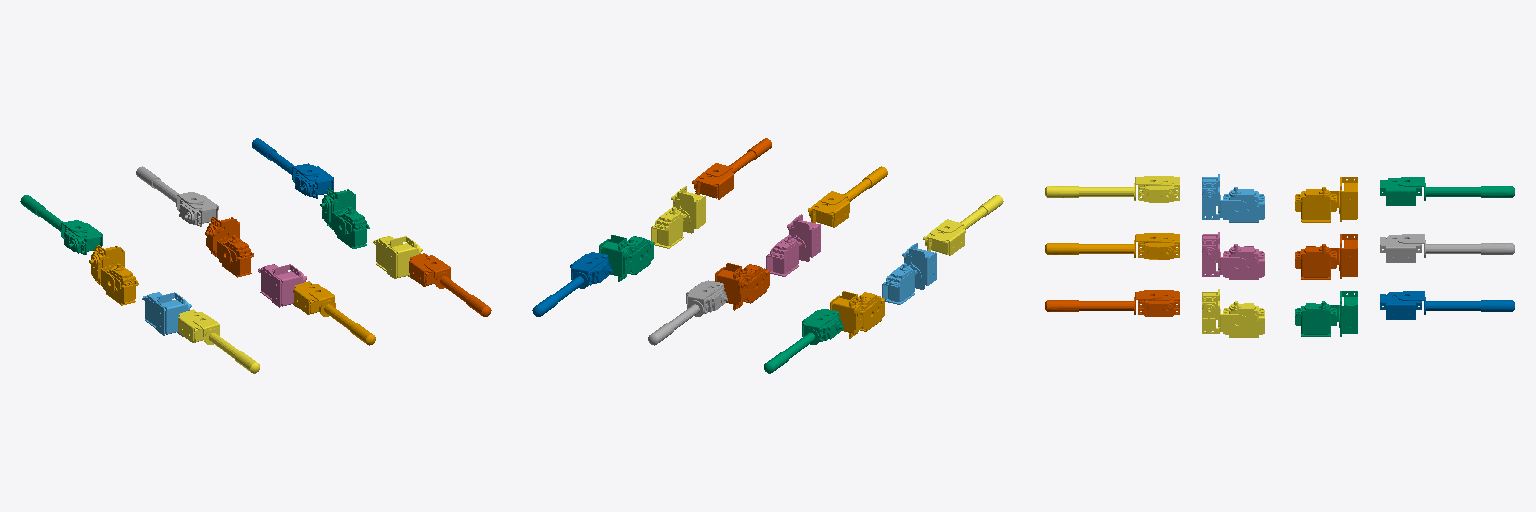
--- Render facts (derived) ---
The picture shows the robot from 3 angles, left to right: view 1: azimuth 30°, elevation 25°; view 2: azimuth 150°, elevation 25°; view 3: azimuth 270°, elevation 25°; orthographic projection.
Robot: hexapod — 20 links, 19 joints (18 revolute, 1 fixed); root link base_link; default pose: every joint at zero.
Visible links, largest first — view 1: left_rear_coxa, left_front_coxa, left_central_coxa, right_front_tibia, right_rear_tibia, right_central_tibia, left_front_tibia, left_central_tibia, left_rear_tibia, right_rear_coxa, right_front_coxa, right_central_coxa; view 2: right_front_coxa, right_rear_coxa, right_central_coxa, left_central_coxa, left_rear_coxa, left_front_coxa, left_central_tibia, left_front_tibia, left_rear_tibia, right_central_tibia, right_front_tibia, right_rear_tibia; view 3: right_front_coxa, right_rear_coxa, right_central_coxa, right_front_tibia, right_central_tibia, right_rear_tibia, left_rear_tibia, left_central_tibia, left_front_tibia, left_rear_coxa, left_central_coxa, left_front_coxa.
Link boxes in pixels (left/top/right/bottom): left_rear_coxa: left=89, top=245, right=138, bottom=305; left_front_coxa: left=320, top=188, right=369, bottom=248; left_central_coxa: left=205, top=217, right=253, bottom=277; right_front_tibia: left=409, top=253, right=491, bottom=316; right_rear_tibia: left=178, top=309, right=259, bottom=373; right_central_tibia: left=293, top=281, right=375, bottom=345; left_front_tibia: left=252, top=138, right=333, bottom=198; left_central_tibia: left=136, top=166, right=218, bottom=226; left_rear_tibia: left=20, top=195, right=102, bottom=254; right_rear_coxa: left=142, top=292, right=191, bottom=336; right_front_coxa: left=373, top=236, right=422, bottom=279; right_central_coxa: left=258, top=264, right=306, bottom=307; right_front_coxa: left=651, top=186, right=705, bottom=248; right_rear_coxa: left=882, top=243, right=936, bottom=304; right_central_coxa: left=766, top=214, right=820, bottom=276; left_central_coxa: left=715, top=263, right=769, bottom=310; left_rear_coxa: left=830, top=291, right=884, bottom=338; left_front_coxa: left=599, top=235, right=653, bottom=281; left_central_tibia: left=648, top=280, right=727, bottom=345; left_front_tibia: left=532, top=252, right=612, bottom=316; left_rear_tibia: left=764, top=309, right=843, bottom=373; right_central_tibia: left=808, top=166, right=887, bottom=227; right_front_tibia: left=692, top=138, right=771, bottom=199; right_rear_tibia: left=923, top=195, right=1003, bottom=255; right_front_coxa: left=1202, top=289, right=1264, bottom=337; right_rear_coxa: left=1202, top=174, right=1264, bottom=222; right_central_coxa: left=1202, top=232, right=1264, bottom=279; right_front_tibia: left=1045, top=290, right=1179, bottom=316; right_central_tibia: left=1045, top=233, right=1179, bottom=259; right_rear_tibia: left=1045, top=176, right=1179, bottom=202; left_rear_tibia: left=1380, top=177, right=1514, bottom=205; left_central_tibia: left=1380, top=234, right=1514, bottom=262; left_front_tibia: left=1380, top=291, right=1514, bottom=319; left_rear_coxa: left=1295, top=177, right=1357, bottom=222; left_central_coxa: left=1295, top=234, right=1357, bottom=279; left_front_coxa: left=1295, top=291, right=1357, bottom=336.
Bounding box of the posed robot: 0.4106 × 0.6306 × 0.0595 m (x, y, z).
Meshes: 4 distinct files referenced, 12 mesh visuals loaded (2 binary STL); not drawn: 7 (reference not matched to a file when rendering).

URDF robot description (hexapod):
<?xml version="1.0" encoding="utf-8"?>
<!-- =================================================================================== -->
<!-- |    This document was autogenerated by xacro from hexapod.urdf.xacro             | -->
<!-- |    EDITING THIS FILE BY HAND IS NOT RECOMMENDED                                 | -->
<!-- =================================================================================== -->
<robot name="hexapod">
  <link name="base_link"/>
  <link name="body">
    <visual>
      <geometry>
        <mesh filename="package://the_walking_thread_gazebo/src/urdf/meshes/the_walking_thread/frame.stl" scale="1 1 1"/>
      </geometry>
      <origin xyz="0 0 0"/>
    </visual>
    <collision>
      <geometry>
        <box size="0.3618                      0.117                      0.0525"/>
      </geometry>
    </collision>
    <inertial>
      <mass value="0.209677"/>
      <inertia ixx="0.00022432" ixy="0.0" ixz="0.0" iyy="0.0041164" iyz="0.0" izz="0.00422412"/>
    </inertial>
  </link>
  <joint name="base_link_to_body_joint" type="fixed">
    <origin rpy="0 0 0" xyz="0 0 0"/>
    <parent link="base_link"/>
    <child link="body"/>
  </joint>
  <link name="left_front_coxa">
    <visual>
      <geometry>
        <mesh filename="package://the_walking_thread_gazebo/src/urdf/meshes/the_walking_thread/coxa.stl" scale="1 1 1"/>
      </geometry>
      <origin rpy="1.57079632679 0 0" xyz="0 0 -0.01825"/>
    </visual>
    <collision>
      <geometry>
        <sphere radius="0.019"/>
      </geometry>
      <origin rpy="0 0 0" xyz="0 0 -0.0175"/>
    </collision>
    <inertial>
      <mass value="0.12131"/>
      <inertia ixx="9.165e-05" ixy="5.98e-06" ixz="-1.8e-06" iyy="3.309e-05" iyz="-1.473e-05" izz="8.256e-05"/>
    </inertial>
  </link>
  <link name="left_front_femur">
    <visual>
      <geometry>
        <mesh filename="package://the_walking_thread_gazebo/src/urdf/meshes/the_walking_thread/femur.stl" scale="1 1 1"/>
      </geometry>
      <origin rpy="1.57079632679 0 0" xyz="0 0 -0.0285"/>
    </visual>
    <collision>
      <geometry>
        <sphere radius="0.03"/>
      </geometry>
      <origin rpy="0 0 0" xyz="0 0 -0.027"/>
    </collision>
    <inertial>
      <mass value="0.02748837"/>
      <inertia ixx="1.094e-05" ixy="0.0" ixz="0.0" iyy="1.457e-05" iyz="0.0" izz="2.278e-05"/>
    </inertial>
  </link>
  <link name="left_front_tibia">
    <visual>
      <geometry>
        <mesh filename="package://the_walking_thread_gazebo/src/urdf/meshes/the_walking_thread/tibia.stl" scale="1 1 1"/>
      </geometry>
      <origin rpy="1.57079632679 0 0" xyz="0 0 -0.0815"/>
    </visual>
    <collision>
      <geometry>
        <sphere radius="0.0065"/>
      </geometry>
      <origin rpy="0 0 0" xyz="0 0 -0.1565"/>
    </collision>
    <inertial>
      <mass value="0.08475"/>
      <inertia ixx="0.0001634" ixy="-3.17e-06" ixz="-2.9e-07" iyy="1.251e-05" iyz="3.18e-06" izz="0.00016808"/>
    </inertial>
  </link>
  <joint name="left_front_body_to_coxa_joint" type="revolute">
    <parent link="body"/>
    <origin rpy="-1.57079632679 0 3.14159265359" xyz="0.1809                        0.0585                        0"/>
    <child link="left_front_coxa"/>
    <axis xyz="0 1 0"/>
    <limit effort="0.5295591" lower="-0.785398163397" upper="0.785398163397" velocity="0.003141593"/>
  </joint>
  <!-- TRANSMITION DEFINITION -->
  <transmission name="left_front_body_to_coxa_transmition">
    <type>transmission_interface/SimpleTransmission</type>
    <joint name="left_front_body_to_coxa_joint">
      <hardwareInterface>hardware_interface/EffortJointInterface</hardwareInterface>
    </joint>
    <actuator name="left_front_body_to_coxa_actuator">
      <hardwareInterface>hardware_interface/EffortJointInterface</hardwareInterface>
      <mechanicalReduction>1</mechanicalReduction>
    </actuator>
  </transmission>
  <joint name="left_front_coxa_to_femur_joint" type="revolute">
    <parent link="left_front_coxa"/>
    <origin rpy="0 0 0" xyz="0 -0.019 -0.0365"/>
    <child link="left_front_femur"/>
    <axis xyz="1 0 0"/>
    <limit effort="0.5295591" lower="-0.785398163397" upper="0.785398163397" velocity="0.003141593"/>
  </joint>
  <!-- TRANSMITION DEFINITION -->
  <transmission name="left_front_coxa_to_femur_transmition">
    <type>transmission_interface/SimpleTransmission</type>
    <joint name="left_front_coxa_to_femur_joint">
      <hardwareInterface>hardware_interface/EffortJointInterface</hardwareInterface>
    </joint>
    <actuator name="left_front_coxa_to_femur_actuator">
      <hardwareInterface>hardware_interface/EffortJointInterface</hardwareInterface>
      <mechanicalReduction>1</mechanicalReduction>
    </actuator>
  </transmission>
  <joint name="left_front_femur_to_tibia_joint" type="revolute">
    <parent link="left_front_femur"/>
    <origin rpy="0 0 0" xyz="0 0 -0.057"/>
    <child link="left_front_tibia"/>
    <axis xyz="1 0 0"/>
    <limit effort="0.5295591" lower="0.0" upper="2.35619449019" velocity="0.003141593"/>
  </joint>
  <!-- TRANSMITION DEFINITION -->
  <transmission name="left_front_femur_to_tibia_transmition">
    <type>transmission_interface/SimpleTransmission</type>
    <joint name="left_front_femur_to_tibia_joint">
      <hardwareInterface>hardware_interface/EffortJointInterface</hardwareInterface>
    </joint>
    <actuator name="left_front_femur_to_tibia_actuator">
      <hardwareInterface>hardware_interface/EffortJointInterface</hardwareInterface>
      <mechanicalReduction>1</mechanicalReduction>
    </actuator>
  </transmission>
  <gazebo reference="left_front_coxa">
    <mu1>0.9</mu1>
    <mu2>0.6</mu2>
  </gazebo>
  <link name="left_central_coxa">
    <visual>
      <geometry>
        <mesh filename="package://the_walking_thread_gazebo/src/urdf/meshes/the_walking_thread/coxa.stl" scale="1 1 1"/>
      </geometry>
      <origin rpy="1.57079632679 0 0" xyz="0 0 -0.01825"/>
    </visual>
    <collision>
      <geometry>
        <sphere radius="0.019"/>
      </geometry>
      <origin rpy="0 0 0" xyz="0 0 -0.0175"/>
    </collision>
    <inertial>
      <mass value="0.12131"/>
      <inertia ixx="9.165e-05" ixy="5.98e-06" ixz="-1.8e-06" iyy="3.309e-05" iyz="-1.473e-05" izz="8.256e-05"/>
    </inertial>
  </link>
  <link name="left_central_femur">
    <visual>
      <geometry>
        <mesh filename="package://the_walking_thread_gazebo/src/urdf/meshes/the_walking_thread/femur.stl" scale="1 1 1"/>
      </geometry>
      <origin rpy="1.57079632679 0 0" xyz="0 0 -0.0285"/>
    </visual>
    <collision>
      <geometry>
        <sphere radius="0.03"/>
      </geometry>
      <origin rpy="0 0 0" xyz="0 0 -0.027"/>
    </collision>
    <inertial>
      <mass value="0.02748837"/>
      <inertia ixx="1.094e-05" ixy="0.0" ixz="0.0" iyy="1.457e-05" iyz="0.0" izz="2.278e-05"/>
    </inertial>
  </link>
  <link name="left_central_tibia">
    <visual>
      <geometry>
        <mesh filename="package://the_walking_thread_gazebo/src/urdf/meshes/the_walking_thread/tibia.stl" scale="1 1 1"/>
      </geometry>
      <origin rpy="1.57079632679 0 0" xyz="0 0 -0.0815"/>
    </visual>
    <collision>
      <geometry>
        <sphere radius="0.0065"/>
      </geometry>
      <origin rpy="0 0 0" xyz="0 0 -0.1565"/>
    </collision>
    <inertial>
      <mass value="0.08475"/>
      <inertia ixx="0.0001634" ixy="-3.17e-06" ixz="-2.9e-07" iyy="1.251e-05" iyz="3.18e-06" izz="0.00016808"/>
    </inertial>
  </link>
  <joint name="left_central_body_to_coxa_joint" type="revolute">
    <parent link="body"/>
    <origin rpy="-1.57079632679 0 3.14159265359" xyz="0                        0.0585                        0"/>
    <child link="left_central_coxa"/>
    <axis xyz="0 1 0"/>
    <limit effort="0.5295591" lower="-0.785398163397" upper="0.785398163397" velocity="0.003141593"/>
  </joint>
  <!-- TRANSMITION DEFINITION -->
  <transmission name="left_central_body_to_coxa_transmition">
    <type>transmission_interface/SimpleTransmission</type>
    <joint name="left_central_body_to_coxa_joint">
      <hardwareInterface>hardware_interface/EffortJointInterface</hardwareInterface>
    </joint>
    <actuator name="left_central_body_to_coxa_actuator">
      <hardwareInterface>hardware_interface/EffortJointInterface</hardwareInterface>
      <mechanicalReduction>1</mechanicalReduction>
    </actuator>
  </transmission>
  <joint name="left_central_coxa_to_femur_joint" type="revolute">
    <parent link="left_central_coxa"/>
    <origin rpy="0 0 0" xyz="0 -0.019 -0.0365"/>
    <child link="left_central_femur"/>
    <axis xyz="1 0 0"/>
    <limit effort="0.5295591" lower="-0.785398163397" upper="0.785398163397" velocity="0.003141593"/>
  </joint>
  <!-- TRANSMITION DEFINITION -->
  <transmission name="left_central_coxa_to_femur_transmition">
    <type>transmission_interface/SimpleTransmission</type>
    <joint name="left_central_coxa_to_femur_joint">
      <hardwareInterface>hardware_interface/EffortJointInterface</hardwareInterface>
    </joint>
    <actuator name="left_central_coxa_to_femur_actuator">
      <hardwareInterface>hardware_interface/EffortJointInterface</hardwareInterface>
      <mechanicalReduction>1</mechanicalReduction>
    </actuator>
  </transmission>
  <joint name="left_central_femur_to_tibia_joint" type="revolute">
    <parent link="left_central_femur"/>
    <origin rpy="0 0 0" xyz="0 0 -0.057"/>
    <child link="left_central_tibia"/>
    <axis xyz="1 0 0"/>
    <limit effort="0.5295591" lower="0.0" upper="2.35619449019" velocity="0.003141593"/>
  </joint>
  <!-- TRANSMITION DEFINITION -->
  <transmission name="left_central_femur_to_tibia_transmition">
    <type>transmission_interface/SimpleTransmission</type>
    <joint name="left_central_femur_to_tibia_joint">
      <hardwareInterface>hardware_interface/EffortJointInterface</hardwareInterface>
    </joint>
    <actuator name="left_central_femur_to_tibia_actuator">
      <hardwareInterface>hardware_interface/EffortJointInterface</hardwareInterface>
      <mechanicalReduction>1</mechanicalReduction>
    </actuator>
  </transmission>
  <gazebo reference="left_central_coxa">
    <mu1>0.9</mu1>
    <mu2>0.6</mu2>
  </gazebo>
  <link name="left_rear_coxa">
    <visual>
      <geometry>
        <mesh filename="package://the_walking_thread_gazebo/src/urdf/meshes/the_walking_thread/coxa.stl" scale="1 1 1"/>
      </geometry>
      <origin rpy="1.57079632679 0 0" xyz="0 0 -0.01825"/>
    </visual>
    <collision>
      <geometry>
        <sphere radius="0.019"/>
      </geometry>
      <origin rpy="0 0 0" xyz="0 0 -0.0175"/>
    </collision>
    <inertial>
      <mass value="0.12131"/>
      <inertia ixx="9.165e-05" ixy="5.98e-06" ixz="-1.8e-06" iyy="3.309e-05" iyz="-1.473e-05" izz="8.256e-05"/>
    </inertial>
  </link>
  <link name="left_rear_femur">
    <visual>
      <geometry>
        <mesh filename="package://the_walking_thread_gazebo/src/urdf/meshes/the_walking_thread/femur.stl" scale="1 1 1"/>
      </geometry>
      <origin rpy="1.57079632679 0 0" xyz="0 0 -0.0285"/>
    </visual>
    <collision>
      <geometry>
        <sphere radius="0.03"/>
      </geometry>
      <origin rpy="0 0 0" xyz="0 0 -0.027"/>
    </collision>
    <inertial>
      <mass value="0.02748837"/>
      <inertia ixx="1.094e-05" ixy="0.0" ixz="0.0" iyy="1.457e-05" iyz="0.0" izz="2.278e-05"/>
    </inertial>
  </link>
  <link name="left_rear_tibia">
    <visual>
      <geometry>
        <mesh filename="package://the_walking_thread_gazebo/src/urdf/meshes/the_walking_thread/tibia.stl" scale="1 1 1"/>
      </geometry>
      <origin rpy="1.57079632679 0 0" xyz="0 0 -0.0815"/>
    </visual>
    <collision>
      <geometry>
        <sphere radius="0.0065"/>
      </geometry>
      <origin rpy="0 0 0" xyz="0 0 -0.1565"/>
    </collision>
    <inertial>
      <mass value="0.08475"/>
      <inertia ixx="0.0001634" ixy="-3.17e-06" ixz="-2.9e-07" iyy="1.251e-05" iyz="3.18e-06" izz="0.00016808"/>
    </inertial>
  </link>
  <joint name="left_rear_body_to_coxa_joint" type="revolute">
    <parent link="body"/>
    <origin rpy="-1.57079632679 0 3.14159265359" xyz="-0.1809                        0.0585                        0"/>
    <child link="left_rear_coxa"/>
    <axis xyz="0 1 0"/>
    <limit effort="0.5295591" lower="-0.785398163397" upper="0.785398163397" velocity="0.003141593"/>
  </joint>
  <!-- TRANSMITION DEFINITION -->
  <transmission name="left_rear_body_to_coxa_transmition">
    <type>transmission_interface/SimpleTransmission</type>
    <joint name="left_rear_body_to_coxa_joint">
      <hardwareInterface>hardware_interface/EffortJointInterface</hardwareInterface>
    </joint>
    <actuator name="left_rear_body_to_coxa_actuator">
      <hardwareInterface>hardware_interface/EffortJointInterface</hardwareInterface>
      <mechanicalReduction>1</mechanicalReduction>
    </actuator>
  </transmission>
  <joint name="left_rear_coxa_to_femur_joint" type="revolute">
    <parent link="left_rear_coxa"/>
    <origin rpy="0 0 0" xyz="0 -0.019 -0.0365"/>
    <child link="left_rear_femur"/>
    <axis xyz="1 0 0"/>
    <limit effort="0.5295591" lower="-0.785398163397" upper="0.785398163397" velocity="0.003141593"/>
  </joint>
  <!-- TRANSMITION DEFINITION -->
  <transmission name="left_rear_coxa_to_femur_transmition">
    <type>transmission_interface/SimpleTransmission</type>
    <joint name="left_rear_coxa_to_femur_joint">
      <hardwareInterface>hardware_interface/EffortJointInterface</hardwareInterface>
    </joint>
    <actuator name="left_rear_coxa_to_femur_actuator">
      <hardwareInterface>hardware_interface/EffortJointInterface</hardwareInterface>
      <mechanicalReduction>1</mechanicalReduction>
    </actuator>
  </transmission>
  <joint name="left_rear_femur_to_tibia_joint" type="revolute">
    <parent link="left_rear_femur"/>
    <origin rpy="0 0 0" xyz="0 0 -0.057"/>
    <child link="left_rear_tibia"/>
    <axis xyz="1 0 0"/>
    <limit effort="0.5295591" lower="0.0" upper="2.35619449019" velocity="0.003141593"/>
  </joint>
  <!-- TRANSMITION DEFINITION -->
  <transmission name="left_rear_femur_to_tibia_transmition">
    <type>transmission_interface/SimpleTransmission</type>
    <joint name="left_rear_femur_to_tibia_joint">
      <hardwareInterface>hardware_interface/EffortJointInterface</hardwareInterface>
    </joint>
    <actuator name="left_rear_femur_to_tibia_actuator">
      <hardwareInterface>hardware_interface/EffortJointInterface</hardwareInterface>
      <mechanicalReduction>1</mechanicalReduction>
    </actuator>
  </transmission>
  <gazebo reference="left_rear_coxa">
    <mu1>0.9</mu1>
    <mu2>0.6</mu2>
  </gazebo>
  <link name="right_front_coxa">
    <visual>
      <geometry>
        <mesh filename="package://the_walking_thread_gazebo/src/urdf/meshes/the_walking_thread/coxa.stl" scale="1 1 1"/>
      </geometry>
      <origin rpy="1.57079632679 0 0" xyz="0 0 -0.01825"/>
    </visual>
    <collision>
      <geometry>
        <sphere radius="0.019"/>
      </geometry>
      <origin rpy="0 0 0" xyz="0 0 -0.0175"/>
    </collision>
    <inertial>
      <mass value="0.12131"/>
      <inertia ixx="9.165e-05" ixy="5.98e-06" ixz="-1.8e-06" iyy="3.309e-05" iyz="-1.473e-05" izz="8.256e-05"/>
    </inertial>
  </link>
  <link name="right_front_femur">
    <visual>
      <geometry>
        <mesh filename="package://the_walking_thread_gazebo/src/urdf/meshes/the_walking_thread/femur.stl" scale="1 1 1"/>
      </geometry>
      <origin rpy="1.57079632679 0 0" xyz="0 0 -0.0285"/>
    </visual>
    <collision>
      <geometry>
        <sphere radius="0.03"/>
      </geometry>
      <origin rpy="0 0 0" xyz="0 0 -0.027"/>
    </collision>
    <inertial>
      <mass value="0.02748837"/>
      <inertia ixx="1.094e-05" ixy="0.0" ixz="0.0" iyy="1.457e-05" iyz="0.0" izz="2.278e-05"/>
    </inertial>
  </link>
  <link name="right_front_tibia">
    <visual>
      <geometry>
        <mesh filename="package://the_walking_thread_gazebo/src/urdf/meshes/the_walking_thread/tibia.stl" scale="1 1 1"/>
      </geometry>
      <origin rpy="1.57079632679 0 0" xyz="0 0 -0.0815"/>
    </visual>
    <collision>
      <geometry>
        <sphere radius="0.0065"/>
      </geometry>
      <origin rpy="0 0 0" xyz="0 0 -0.1565"/>
    </collision>
    <inertial>
      <mass value="0.08475"/>
      <inertia ixx="0.0001634" ixy="-3.17e-06" ixz="-2.9e-07" iyy="1.251e-05" iyz="3.18e-06" izz="0.00016808"/>
    </inertial>
  </link>
  <joint name="right_front_body_to_coxa_joint" type="revolute">
    <parent link="body"/>
    <origin rpy="-1.57079632679 0 0.0" xyz="0.1809                        -0.0585                        0"/>
    <child link="right_front_coxa"/>
    <axis xyz="0 -1 0"/>
    <limit effort="0.5295591" lower="-0.785398163397" upper="0.785398163397" velocity="0.003141593"/>
  </joint>
  <!-- TRANSMITION DEFINITION -->
  <transmission name="right_front_body_to_coxa_transmition">
    <type>transmission_interface/SimpleTransmission</type>
    <joint name="right_front_body_to_coxa_joint">
      <hardwareInterface>hardware_interface/EffortJointInterface</hardwareInterface>
    </joint>
    <actuator name="right_front_body_to_coxa_actuator">
      <hardwareInterface>hardware_interface/EffortJointInterface</hardwareInterface>
      <mechanicalReduction>1</mechanicalReduction>
    </actuator>
  </transmission>
  <joint name="right_front_coxa_to_femur_joint" type="revolute">
    <parent link="right_front_coxa"/>
    <origin rpy="0 0 0" xyz="0 -0.019 -0.0365"/>
    <child link="right_front_femur"/>
    <axis xyz="1 0 0"/>
    <limit effort="0.5295591" lower="-0.785398163397" upper="0.785398163397" velocity="0.003141593"/>
  </joint>
  <!-- TRANSMITION DEFINITION -->
  <transmission name="right_front_coxa_to_femur_transmition">
    <type>transmission_interface/SimpleTransmission</type>
    <joint name="right_front_coxa_to_femur_joint">
      <hardwareInterface>hardware_interface/EffortJointInterface</hardwareInterface>
    </joint>
    <actuator name="right_front_coxa_to_femur_actuator">
      <hardwareInterface>hardware_interface/EffortJointInterface</hardwareInterface>
      <mechanicalReduction>1</mechanicalReduction>
    </actuator>
  </transmission>
  <joint name="right_front_femur_to_tibia_joint" type="revolute">
    <parent link="right_front_femur"/>
    <origin rpy="0 0 0" xyz="0 0 -0.057"/>
    <child link="right_front_tibia"/>
    <axis xyz="1 0 0"/>
    <limit effort="0.5295591" lower="0.0" upper="2.35619449019" velocity="0.003141593"/>
  </joint>
  <!-- TRANSMITION DEFINITION -->
  <transmission name="right_front_femur_to_tibia_transmition">
    <type>transmission_interface/SimpleTransmission</type>
    <joint name="right_front_femur_to_tibia_joint">
      <hardwareInterface>hardware_interface/EffortJointInterface</hardwareInterface>
    </joint>
    <actuator name="right_front_femur_to_tibia_actuator">
      <hardwareInterface>hardware_interface/EffortJointInterface</hardwareInterface>
      <mechanicalReduction>1</mechanicalReduction>
    </actuator>
  </transmission>
  <gazebo reference="right_front_coxa">
    <mu1>0.9</mu1>
    <mu2>0.6</mu2>
  </gazebo>
  <link name="right_central_coxa">
    <visual>
      <geometry>
        <mesh filename="package://the_walking_thread_gazebo/src/urdf/meshes/the_walking_thread/coxa.stl" scale="1 1 1"/>
      </geometry>
      <origin rpy="1.57079632679 0 0" xyz="0 0 -0.01825"/>
    </visual>
    <collision>
      <geometry>
        <sphere radius="0.019"/>
      </geometry>
      <origin rpy="0 0 0" xyz="0 0 -0.0175"/>
    </collision>
    <inertial>
      <mass value="0.12131"/>
      <inertia ixx="9.165e-05" ixy="5.98e-06" ixz="-1.8e-06" iyy="3.309e-05" iyz="-1.473e-05" izz="8.256e-05"/>
    </inertial>
  </link>
  <link name="right_central_femur">
    <visual>
      <geometry>
        <mesh filename="package://the_walking_thread_gazebo/src/urdf/meshes/the_walking_thread/femur.stl" scale="1 1 1"/>
      </geometry>
      <origin rpy="1.57079632679 0 0" xyz="0 0 -0.0285"/>
    </visual>
    <collision>
      <geometry>
        <sphere radius="0.03"/>
      </geometry>
      <origin rpy="0 0 0" xyz="0 0 -0.027"/>
    </collision>
    <inertial>
      <mass value="0.02748837"/>
      <inertia ixx="1.094e-05" ixy="0.0" ixz="0.0" iyy="1.457e-05" iyz="0.0" izz="2.278e-05"/>
    </inertial>
  </link>
  <link name="right_central_tibia">
    <visual>
      <geometry>
        <mesh filename="package://the_walking_thread_gazebo/src/urdf/meshes/the_walking_thread/tibia.stl" scale="1 1 1"/>
      </geometry>
      <origin rpy="1.57079632679 0 0" xyz="0 0 -0.0815"/>
    </visual>
    <collision>
      <geometry>
        <sphere radius="0.0065"/>
      </geometry>
      <origin rpy="0 0 0" xyz="0 0 -0.1565"/>
    </collision>
    <inertial>
      <mass value="0.08475"/>
      <inertia ixx="0.0001634" ixy="-3.17e-06" ixz="-2.9e-07" iyy="1.251e-05" iyz="3.18e-06" izz="0.00016808"/>
    </inertial>
  </link>
  <joint name="right_central_body_to_coxa_joint" type="revolute">
    <parent link="body"/>
    <origin rpy="-1.57079632679 0 0.0" xyz="0                        -0.0585                        0"/>
    <child link="right_central_coxa"/>
    <axis xyz="0 -1 0"/>
    <limit effort="0.5295591" lower="-0.785398163397" upper="0.785398163397" velocity="0.003141593"/>
  </joint>
  <!-- TRANSMITION DEFINITION -->
  <transmission name="right_central_body_to_coxa_transmition">
    <type>transmission_interface/SimpleTransmission</type>
    <joint name="right_central_body_to_coxa_joint">
      <hardwareInterface>hardware_interface/EffortJointInterface</hardwareInterface>
    </joint>
    <actuator name="right_central_body_to_coxa_actuator">
      <hardwareInterface>hardware_interface/EffortJointInterface</hardwareInterface>
      <mechanicalReduction>1</mechanicalReduction>
    </actuator>
  </transmission>
  <joint name="right_central_coxa_to_femur_joint" type="revolute">
    <parent link="right_central_coxa"/>
    <origin rpy="0 0 0" xyz="0 -0.019 -0.0365"/>
    <child link="right_central_femur"/>
    <axis xyz="1 0 0"/>
    <limit effort="0.5295591" lower="-0.785398163397" upper="0.785398163397" velocity="0.003141593"/>
  </joint>
  <!-- TRANSMITION DEFINITION -->
  <transmission name="right_central_coxa_to_femur_transmition">
    <type>transmission_interface/SimpleTransmission</type>
    <joint name="right_central_coxa_to_femur_joint">
      <hardwareInterface>hardware_interface/EffortJointInterface</hardwareInterface>
    </joint>
    <actuator name="right_central_coxa_to_femur_actuator">
      <hardwareInterface>hardware_interface/EffortJointInterface</hardwareInterface>
      <mechanicalReduction>1</mechanicalReduction>
    </actuator>
  </transmission>
  <joint name="right_central_femur_to_tibia_joint" type="revolute">
    <parent link="right_central_femur"/>
    <origin rpy="0 0 0" xyz="0 0 -0.057"/>
    <child link="right_central_tibia"/>
    <axis xyz="1 0 0"/>
    <limit effort="0.5295591" lower="0.0" upper="2.35619449019" velocity="0.003141593"/>
  </joint>
  <!-- TRANSMITION DEFINITION -->
  <transmission name="right_central_femur_to_tibia_transmition">
    <type>transmission_interface/SimpleTransmission</type>
    <joint name="right_central_femur_to_tibia_joint">
      <hardwareInterface>hardware_interface/EffortJointInterface</hardwareInterface>
    </joint>
    <actuator name="right_central_femur_to_tibia_actuator">
      <hardwareInterface>hardware_interface/EffortJointInterface</hardwareInterface>
      <mechanicalReduction>1</mechanicalReduction>
    </actuator>
  </transmission>
  <gazebo reference="right_central_coxa">
    <mu1>0.9</mu1>
    <mu2>0.6</mu2>
  </gazebo>
  <link name="right_rear_coxa">
    <visual>
      <geometry>
        <mesh filename="package://the_walking_thread_gazebo/src/urdf/meshes/the_walking_thread/coxa.stl" scale="1 1 1"/>
      </geometry>
      <origin rpy="1.57079632679 0 0" xyz="0 0 -0.01825"/>
    </visual>
    <collision>
      <geometry>
        <sphere radius="0.019"/>
      </geometry>
      <origin rpy="0 0 0" xyz="0 0 -0.0175"/>
    </collision>
    <inertial>
      <mass value="0.12131"/>
      <inertia ixx="9.165e-05" ixy="5.98e-06" ixz="-1.8e-06" iyy="3.309e-05" iyz="-1.473e-05" izz="8.256e-05"/>
    </inertial>
  </link>
  <link name="right_rear_femur">
    <visual>
      <geometry>
        <mesh filename="package://the_walking_thread_gazebo/src/urdf/meshes/the_walking_thread/femur.stl" scale="1 1 1"/>
      </geometry>
      <origin rpy="1.57079632679 0 0" xyz="0 0 -0.0285"/>
    </visual>
    <collision>
      <geometry>
        <sphere radius="0.03"/>
      </geometry>
      <origin rpy="0 0 0" xyz="0 0 -0.027"/>
    </collision>
    <inertial>
      <mass value="0.02748837"/>
      <inertia ixx="1.094e-05" ixy="0.0" ixz="0.0" iyy="1.457e-05" iyz="0.0" izz="2.278e-05"/>
    </inertial>
  </link>
  <link name="right_rear_tibia">
    <visual>
      <geometry>
        <mesh filename="package://the_walking_thread_gazebo/src/urdf/meshes/the_walking_thread/tibia.stl" scale="1 1 1"/>
      </geometry>
      <origin rpy="1.57079632679 0 0" xyz="0 0 -0.0815"/>
    </visual>
    <collision>
      <geometry>
        <sphere radius="0.0065"/>
      </geometry>
      <origin rpy="0 0 0" xyz="0 0 -0.1565"/>
    </collision>
    <inertial>
      <mass value="0.08475"/>
      <inertia ixx="0.0001634" ixy="-3.17e-06" ixz="-2.9e-07" iyy="1.251e-05" iyz="3.18e-06" izz="0.00016808"/>
    </inertial>
  </link>
  <joint name="right_rear_body_to_coxa_joint" type="revolute">
    <parent link="body"/>
    <origin rpy="-1.57079632679 0 0.0" xyz="-0.1809                        -0.0585                        0"/>
    <child link="right_rear_coxa"/>
    <axis xyz="0 -1 0"/>
    <limit effort="0.5295591" lower="-0.785398163397" upper="0.785398163397" velocity="0.003141593"/>
  </joint>
  <!-- TRANSMITION DEFINITION -->
  <transmission name="right_rear_body_to_coxa_transmition">
    <type>transmission_interface/SimpleTransmission</type>
    <joint name="right_rear_body_to_coxa_joint">
      <hardwareInterface>hardware_interface/EffortJointInterface</hardwareInterface>
    </joint>
    <actuator name="right_rear_body_to_coxa_actuator">
      <hardwareInterface>hardware_interface/EffortJointInterface</hardwareInterface>
      <mechanicalReduction>1</mechanicalReduction>
    </actuator>
  </transmission>
  <joint name="right_rear_coxa_to_femur_joint" type="revolute">
    <parent link="right_rear_coxa"/>
    <origin rpy="0 0 0" xyz="0 -0.019 -0.0365"/>
    <child link="right_rear_femur"/>
    <axis xyz="1 0 0"/>
    <limit effort="0.5295591" lower="-0.785398163397" upper="0.785398163397" velocity="0.003141593"/>
  </joint>
  <!-- TRANSMITION DEFINITION -->
  <transmission name="right_rear_coxa_to_femur_transmition">
    <type>transmission_interface/SimpleTransmission</type>
    <joint name="right_rear_coxa_to_femur_joint">
      <hardwareInterface>hardware_interface/EffortJointInterface</hardwareInterface>
    </joint>
    <actuator name="right_rear_coxa_to_femur_actuator">
      <hardwareInterface>hardware_interface/EffortJointInterface</hardwareInterface>
      <mechanicalReduction>1</mechanicalReduction>
    </actuator>
  </transmission>
  <joint name="right_rear_femur_to_tibia_joint" type="revolute">
    <parent link="right_rear_femur"/>
    <origin rpy="0 0 0" xyz="0 0 -0.057"/>
    <child link="right_rear_tibia"/>
    <axis xyz="1 0 0"/>
    <limit effort="0.5295591" lower="0.0" upper="2.35619449019" velocity="0.003141593"/>
  </joint>
  <!-- TRANSMITION DEFINITION -->
  <transmission name="right_rear_femur_to_tibia_transmition">
    <type>transmission_interface/SimpleTransmission</type>
    <joint name="right_rear_femur_to_tibia_joint">
      <hardwareInterface>hardware_interface/EffortJointInterface</hardwareInterface>
    </joint>
    <actuator name="right_rear_femur_to_tibia_actuator">
      <hardwareInterface>hardware_interface/EffortJointInterface</hardwareInterface>
      <mechanicalReduction>1</mechanicalReduction>
    </actuator>
  </transmission>
  <gazebo reference="right_rear_coxa">
    <mu1>0.9</mu1>
    <mu2>0.6</mu2>
  </gazebo>
  <gazebo>
    <plugin filename="libgazebo_ros_control.so" name="gazebo_ros_control">
      <robotNamespace>/twt</robotNamespace>
    </plugin>
  </gazebo>
  <gazebo reference="base_link">
    <gravity>0</gravity>
  </gazebo>
</robot>
